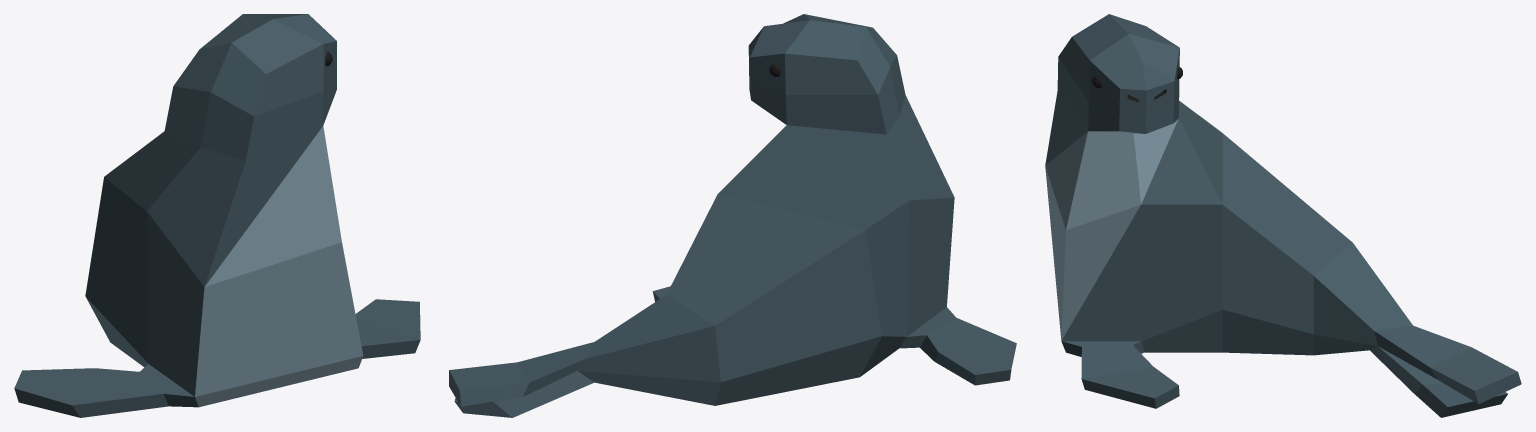
The model's file is Seal_01.obj.
The picture shows the model from 3 angles, left to right: view 1: azimuth 30°, elevation 25°; view 2: azimuth 150°, elevation 25°; view 3: azimuth 270°, elevation 25°; orthographic projection. The views are drawn at different scales.
Visible parts, largest first — view 1: Seal_Cube.032; view 2: Seal_Cube.032; view 3: Seal_Cube.032.
Part boxes in pixels (left/top/right/bottom): Seal_Cube.032: left=14, top=14, right=420, bottom=417; Seal_Cube.032: left=449, top=14, right=1016, bottom=417; Seal_Cube.032: left=1045, top=14, right=1521, bottom=417.
Bounding box in the file's own units: 13.98 × 10.21 × 14.36.
